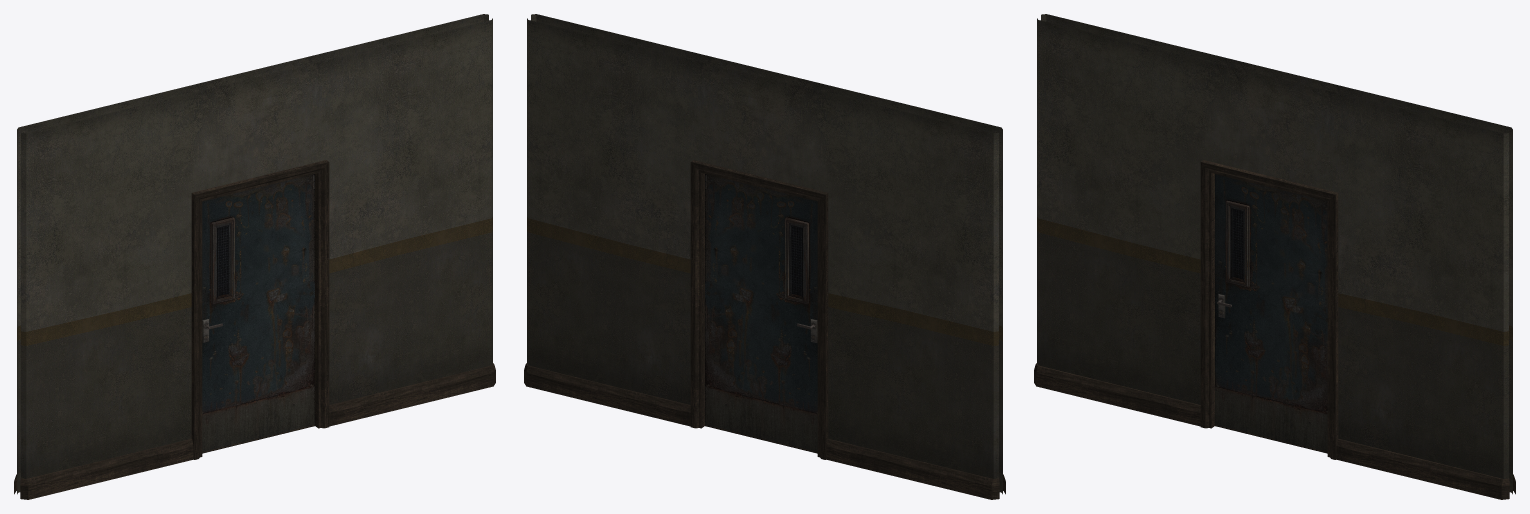
Rendered from doorway_1_1.obj.
3 renders of one model, left to right at view 1: azimuth 30°, elevation 25°; view 2: azimuth 150°, elevation 25°; view 3: azimuth 330°, elevation 25°, orthographic.
Parts seen in each view (by area): view 1: doorway_1_1, door_3; view 2: doorway_1_1, door_3; view 3: doorway_1_1, door_3.
Part boxes in pixels (<box>): doorway_1_1: <box>14,14,495,499</box>; door_3: <box>202,174,314,453</box>; doorway_1_1: <box>524,14,1005,499</box>; door_3: <box>705,174,817,453</box>; doorway_1_1: <box>1034,14,1515,499</box>; door_3: <box>1215,174,1327,453</box>.
Size of the model in its own units: 4.09 by 3 by 0.2.
